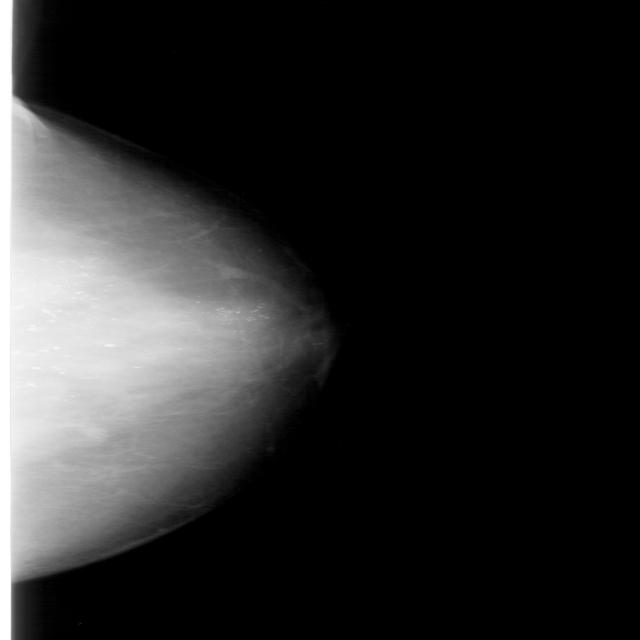normal: (0, 67, 343, 617)
